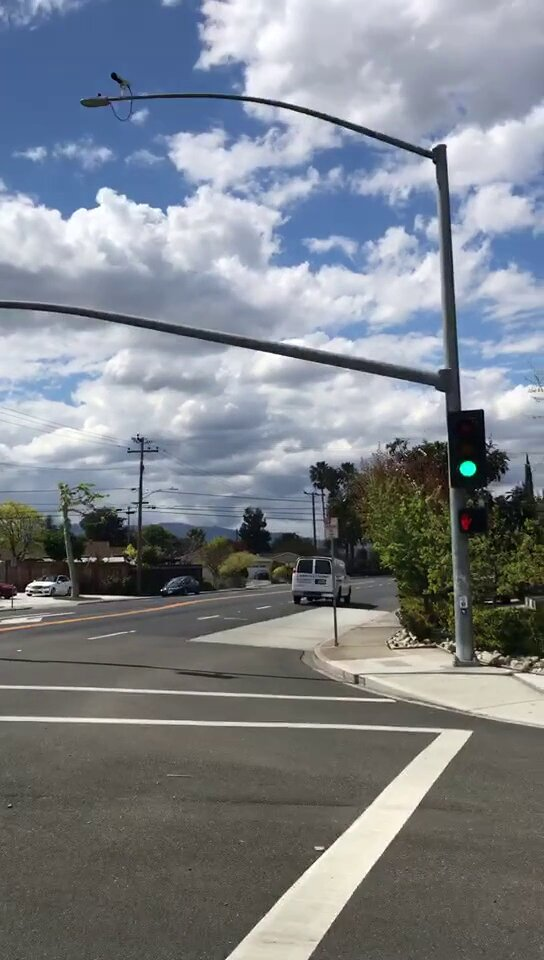green_light: (449, 414, 483, 487)
